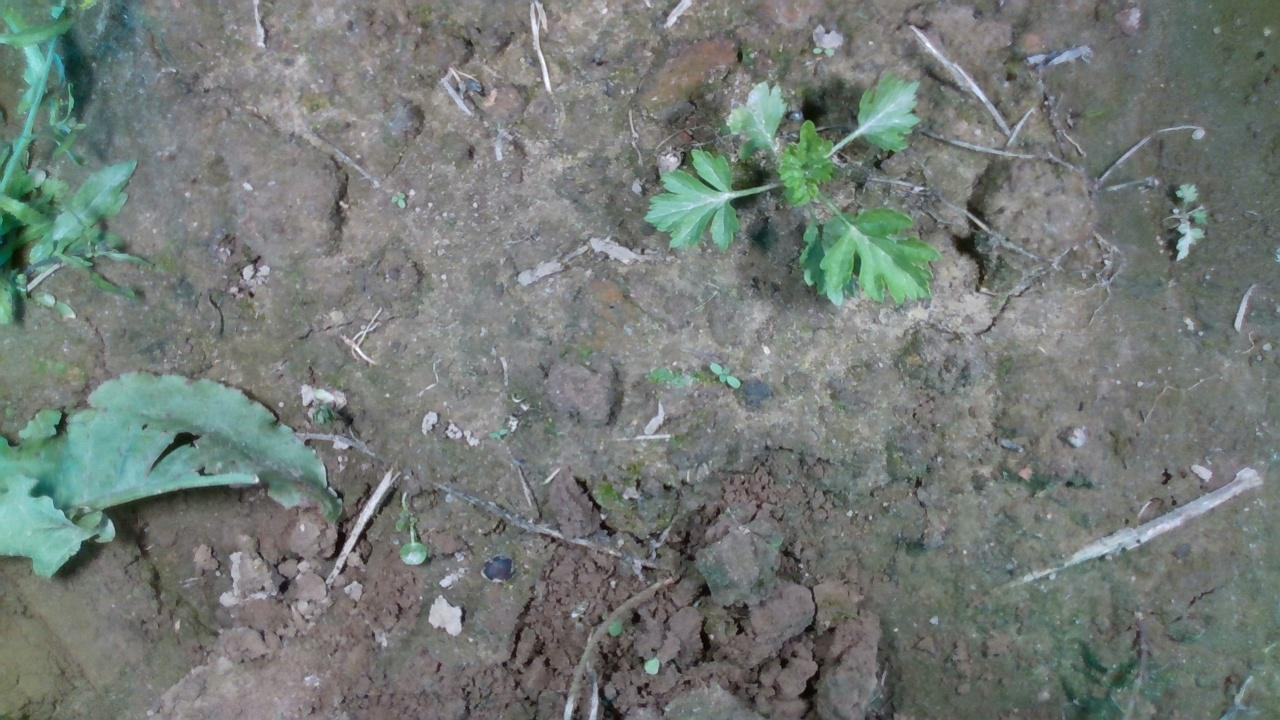weed: (705, 360, 741, 390), (387, 189, 405, 209), (810, 44, 834, 55)
